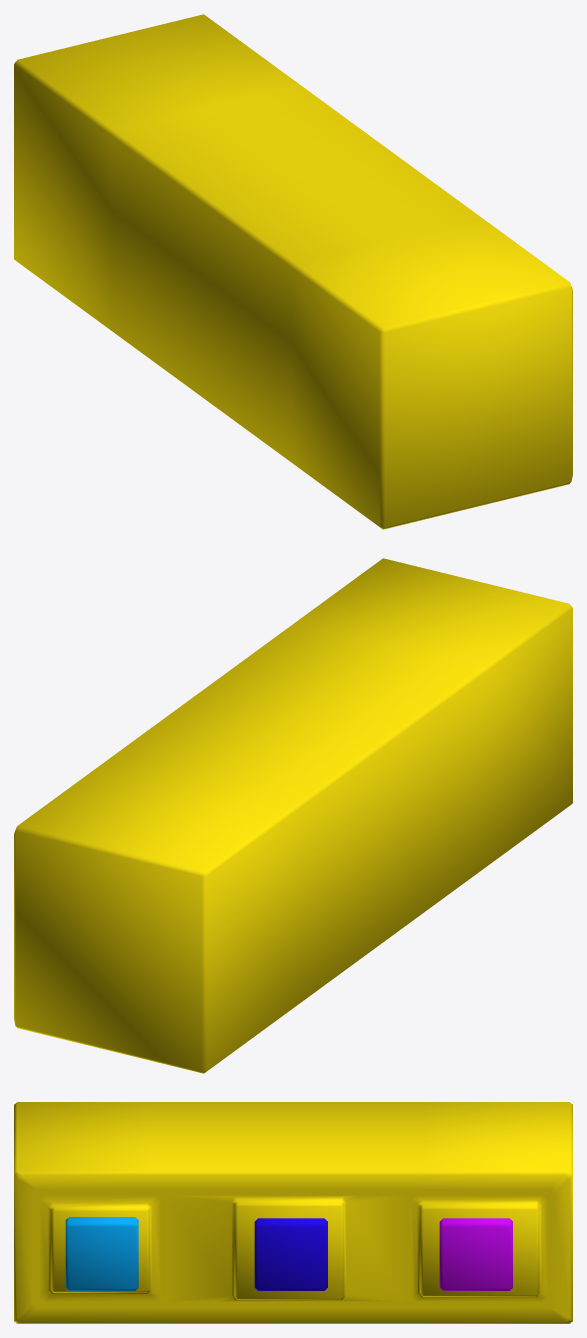
Rendered from ButtonBox.fbx.
3 views of the same model, one above another, from view 1: azimuth 30°, elevation 25°; view 2: azimuth 150°, elevation 25°; view 3: azimuth 270°, elevation 25° (orthographic). The views are drawn at different scales.
Visible parts, largest first — view 1: ButtonBox; view 2: ButtonBox; view 3: ButtonBox, ButtonSmall, ButtonMedium, ButtonLarge.
Part boxes in pixels (x1,y1,x2,y2): ButtonBox: [14, 14, 572, 529]; ButtonBox: [14, 558, 572, 1073]; ButtonBox: [14, 1102, 572, 1323]; ButtonSmall: [65, 1217, 138, 1290]; ButtonMedium: [254, 1218, 327, 1290]; ButtonLarge: [439, 1218, 512, 1290].
Size of the model in its own units: 225 by 200 by 662.
